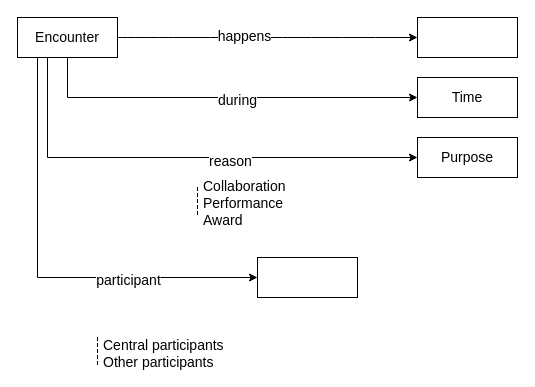
This 535x387 diagram has some shape labels left out. Each missing label, with the centre of its shape:
Person: point 307,277
Place: point 467,37
